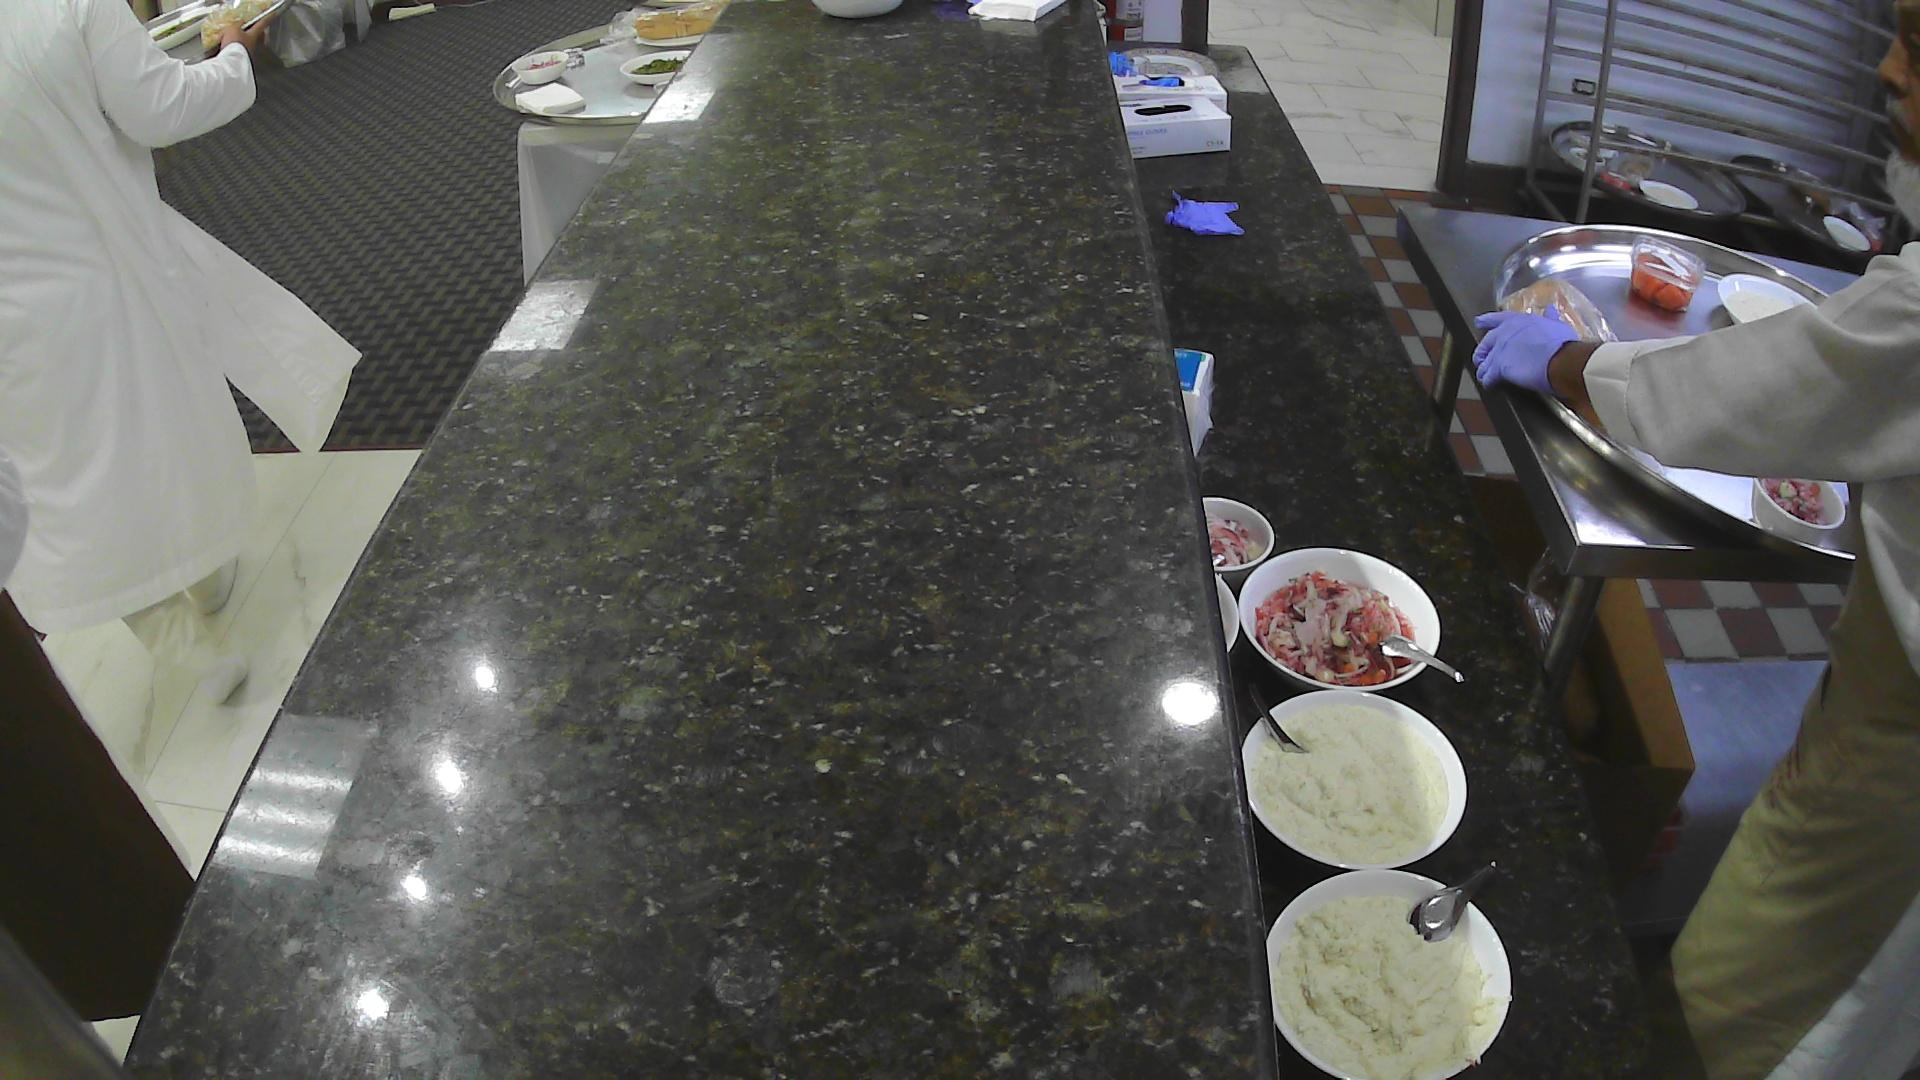thaal: (1490, 222, 1861, 574), (492, 8, 727, 127), (1549, 120, 1747, 222), (1727, 154, 1886, 258), (142, 0, 297, 67)
